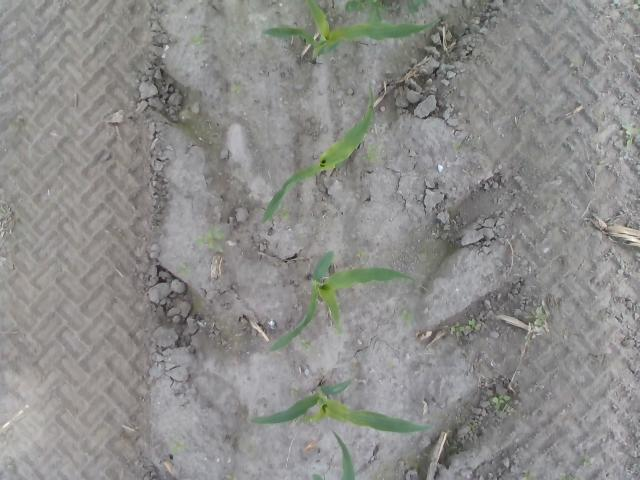Maize: (261, 85, 374, 225), (268, 250, 418, 352), (261, 0, 434, 66), (250, 379, 432, 434), (312, 431, 356, 480)
Weeds: (342, 0, 432, 27), (192, 228, 224, 252), (449, 316, 479, 338), (530, 304, 546, 325), (624, 126, 640, 146), (399, 309, 416, 326), (492, 394, 512, 408), (170, 440, 186, 454), (190, 34, 208, 46), (520, 469, 537, 480), (298, 339, 311, 353), (367, 144, 378, 160), (624, 0, 640, 10), (232, 81, 242, 96), (577, 455, 592, 465), (174, 266, 192, 274), (356, 247, 368, 257), (520, 335, 528, 343), (452, 144, 462, 150), (283, 212, 289, 220)
